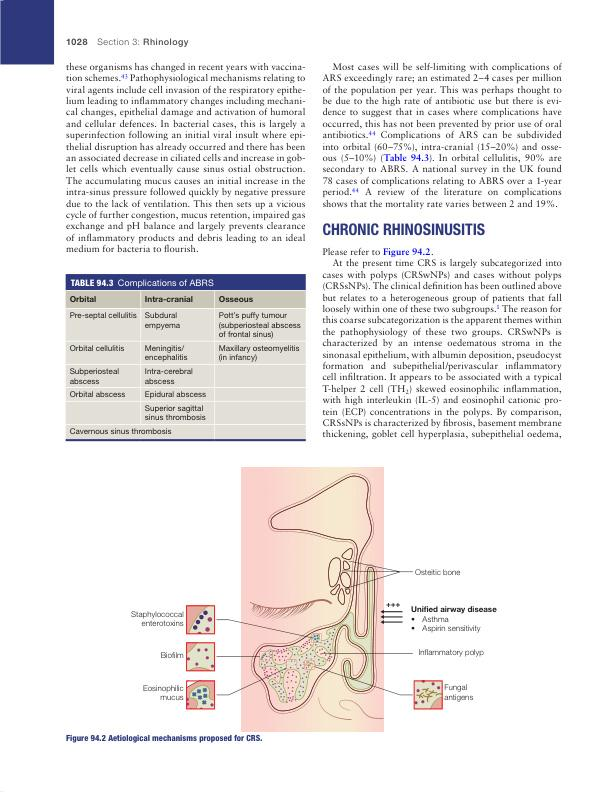caption: (64, 734, 264, 743), (70, 277, 216, 289)
header: (96, 37, 189, 48)
image: (119, 464, 508, 732)
section-heading: (321, 222, 486, 237)
table: (64, 289, 306, 442)
text: (321, 247, 565, 441), (64, 62, 306, 255), (322, 61, 563, 210)
